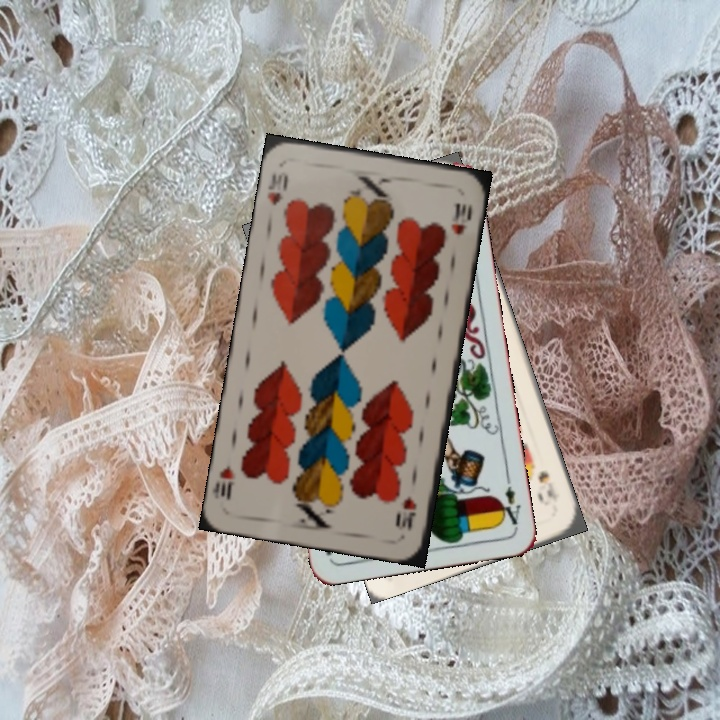EA: (495, 471, 524, 528)
H10: (263, 167, 291, 208), (395, 492, 419, 533)
S10: (534, 467, 563, 504)
